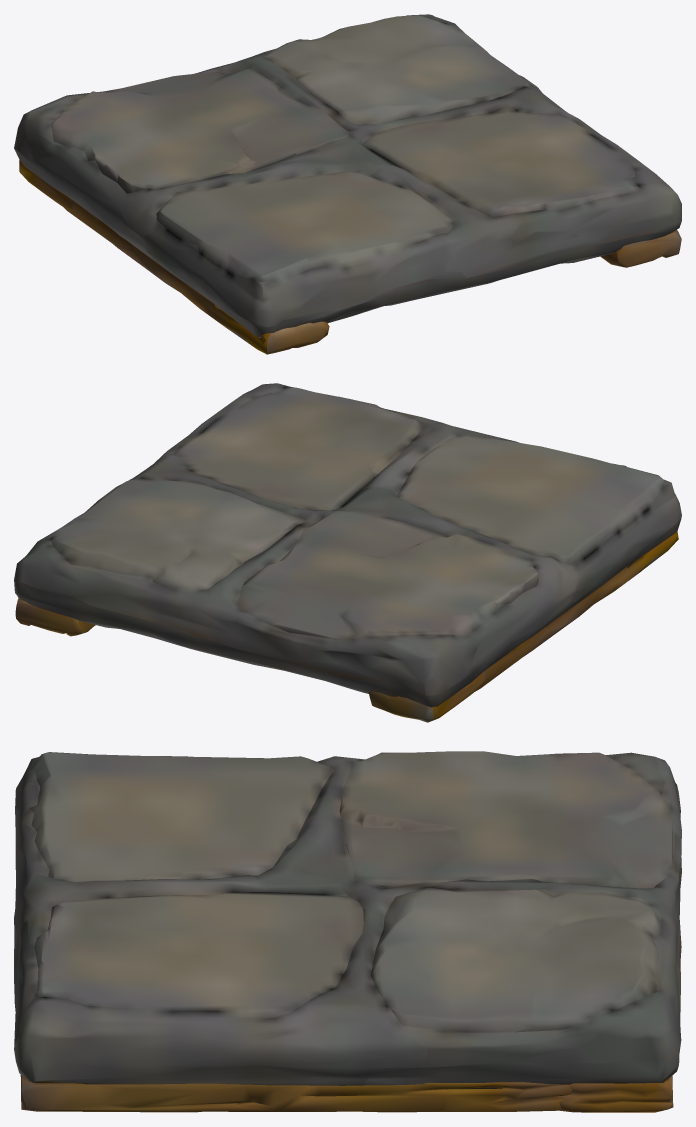
The model's file is Ceiling_Stone_C.glb.
The picture shows the model from 3 angles, top to bottom: view 1: azimuth 30°, elevation 25°; view 2: azimuth 150°, elevation 25°; view 3: azimuth 270°, elevation 25°; orthographic projection. The views are drawn at different scales.
Parts seen in each view (by area): view 1: SM_Stone_CeilingQuarter; view 2: SM_Stone_CeilingQuarter; view 3: SM_Stone_CeilingQuarter.
Part boxes in pixels (<box>): SM_Stone_CeilingQuarter: <box>14,14,681,354</box>; SM_Stone_CeilingQuarter: <box>14,383,681,722</box>; SM_Stone_CeilingQuarter: <box>14,751,681,1112</box>.
Size of the model in its own units: 1.54 by 0.2873 by 1.55.
Materials: 1 (1 with a texture image).
